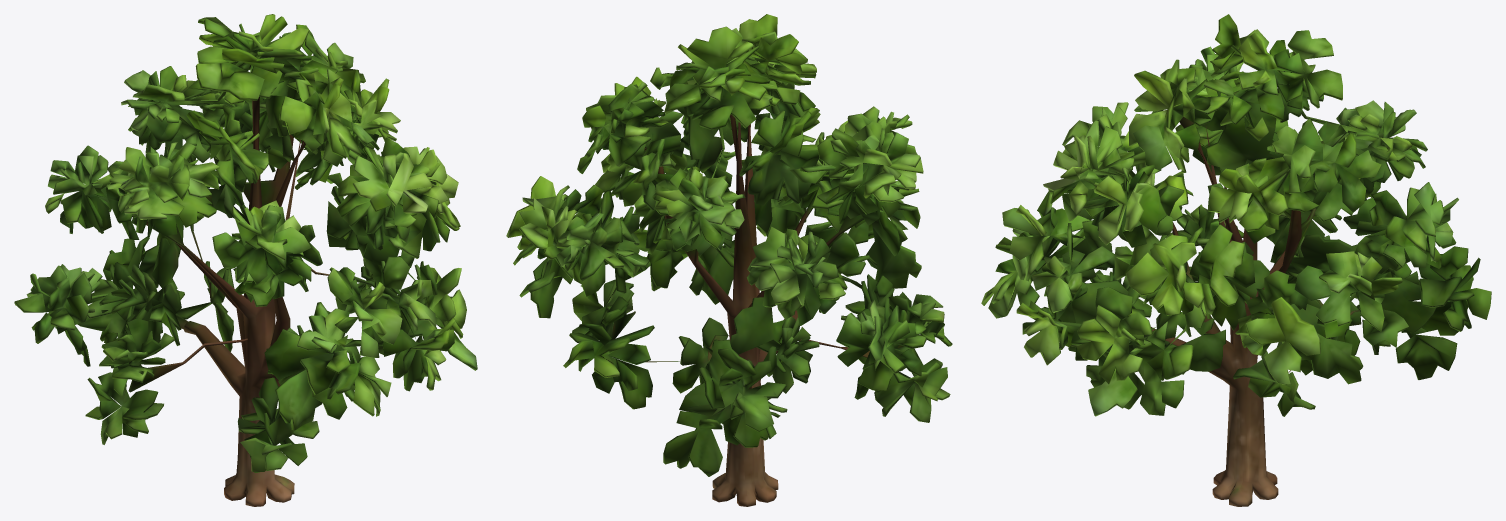
The picture shows the model from 3 angles, left to right: view 1: azimuth 30°, elevation 25°; view 2: azimuth 150°, elevation 25°; view 3: azimuth 270°, elevation 25°; orthographic projection.
Visible parts, largest first — view 1: tripo_node_722ceeab-f64b-4ea3-adba-66834e111969; view 2: tripo_node_722ceeab-f64b-4ea3-adba-66834e111969; view 3: tripo_node_722ceeab-f64b-4ea3-adba-66834e111969.
Boxes of the visible parts, left/top/right/bottom form: tripo_node_722ceeab-f64b-4ea3-adba-66834e111969: left=14, top=14, right=477, bottom=506; tripo_node_722ceeab-f64b-4ea3-adba-66834e111969: left=506, top=14, right=952, bottom=506; tripo_node_722ceeab-f64b-4ea3-adba-66834e111969: left=981, top=14, right=1491, bottom=506.
Bounding box in the file's own units: 0.87 × 0.9771 × 0.9656.
1 material, 1 textured.
